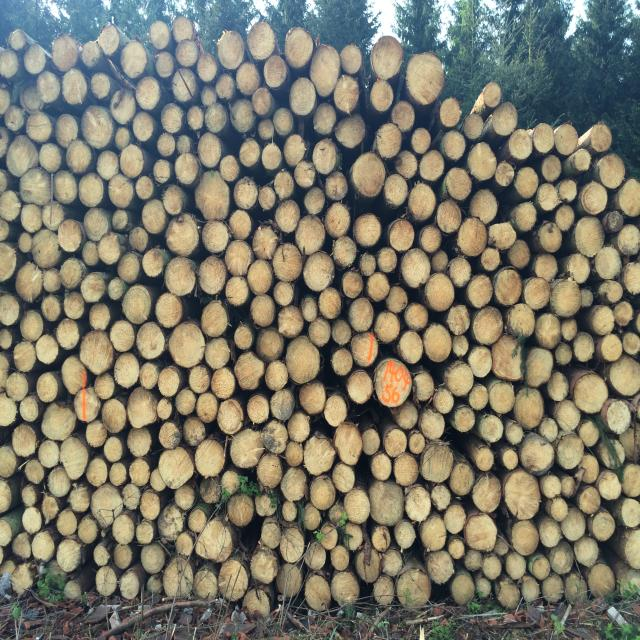wood-log: (407, 52, 446, 105), (505, 469, 543, 520), (374, 359, 412, 408), (195, 172, 232, 222), (286, 334, 322, 384), (350, 152, 388, 198), (169, 323, 206, 369), (369, 480, 406, 526), (157, 446, 196, 489), (197, 518, 234, 562), (310, 46, 342, 96), (80, 332, 117, 375), (230, 429, 267, 470), (490, 335, 522, 382), (573, 372, 609, 413), (397, 568, 432, 610), (420, 441, 455, 483), (520, 432, 555, 474), (372, 37, 405, 80), (92, 482, 124, 526), (166, 216, 201, 256), (42, 402, 77, 442), (61, 436, 92, 480), (82, 108, 115, 149), (304, 434, 336, 476), (551, 275, 583, 317), (608, 355, 640, 397), (303, 252, 336, 292), (220, 557, 250, 601), (163, 557, 195, 598), (456, 218, 488, 258), (575, 217, 607, 257), (466, 513, 498, 553), (165, 257, 197, 297), (402, 249, 434, 288), (127, 389, 159, 428), (333, 423, 362, 466), (9, 136, 40, 176), (473, 307, 505, 345), (272, 245, 304, 283), (195, 438, 226, 477), (473, 474, 504, 513), (123, 284, 154, 323), (514, 390, 544, 430), (525, 347, 555, 387), (424, 272, 455, 310), (234, 352, 265, 390), (424, 325, 454, 364), (249, 548, 280, 585), (21, 167, 51, 205), (136, 321, 166, 359), (285, 28, 315, 66), (32, 229, 61, 268), (198, 257, 227, 296), (16, 262, 44, 302), (331, 570, 362, 606), (507, 303, 538, 339), (556, 433, 586, 470), (296, 217, 326, 254), (354, 542, 381, 583), (248, 21, 276, 60), (588, 562, 617, 599), (468, 142, 497, 179), (158, 505, 187, 542), (334, 76, 362, 114), (494, 268, 522, 306), (257, 452, 285, 490), (61, 356, 88, 395), (445, 361, 475, 396), (225, 242, 255, 277), (349, 332, 378, 368), (409, 183, 437, 220), (202, 300, 230, 337), (278, 525, 306, 562), (353, 214, 383, 248), (300, 380, 329, 415), (425, 549, 454, 584), (257, 328, 286, 363), (157, 293, 186, 328), (511, 519, 539, 555), (304, 575, 331, 612), (217, 398, 244, 435), (217, 33, 244, 70), (420, 512, 446, 550), (344, 488, 370, 526), (407, 483, 433, 521), (605, 400, 634, 434), (597, 154, 625, 189), (376, 123, 404, 158), (280, 468, 308, 503), (592, 246, 620, 281), (290, 79, 316, 116), (534, 313, 560, 350), (337, 116, 367, 148), (523, 276, 552, 309), (445, 166, 473, 200), (346, 370, 374, 404), (115, 352, 142, 387), (122, 43, 149, 78), (75, 388, 102, 423), (228, 492, 255, 527), (193, 566, 220, 601), (243, 588, 273, 619), (201, 220, 230, 252), (396, 331, 424, 364), (57, 537, 84, 571), (467, 274, 494, 308), (472, 191, 499, 225), (52, 38, 79, 72), (449, 461, 475, 496), (13, 424, 39, 459), (263, 419, 289, 454), (110, 320, 138, 352), (554, 400, 582, 432), (491, 105, 519, 137), (326, 203, 353, 236), (85, 207, 112, 240), (488, 380, 515, 413), (66, 141, 92, 175), (394, 451, 420, 485), (274, 199, 300, 233), (102, 399, 128, 433), (107, 174, 133, 208), (249, 260, 275, 294), (270, 388, 296, 422), (312, 141, 338, 175), (618, 176, 640, 216), (277, 306, 305, 337), (375, 311, 402, 343), (561, 508, 587, 541), (582, 181, 608, 214), (554, 123, 580, 156), (58, 220, 84, 253), (449, 571, 475, 604), (348, 298, 374, 331), (109, 91, 135, 124), (80, 174, 106, 207), (438, 200, 464, 233), (495, 578, 520, 612), (142, 199, 167, 233), (231, 99, 256, 133), (418, 151, 445, 182), (205, 338, 232, 369), (419, 409, 445, 441), (48, 466, 74, 498), (309, 478, 335, 510), (589, 304, 615, 336), (63, 69, 86, 105), (574, 535, 599, 568), (135, 79, 160, 112), (251, 293, 276, 326), (199, 134, 223, 168), (122, 145, 146, 179), (81, 272, 108, 302), (333, 237, 359, 268), (384, 174, 410, 205), (173, 71, 196, 106), (389, 220, 414, 252), (98, 233, 123, 265), (313, 103, 338, 135), (467, 346, 492, 378), (516, 167, 540, 200), (54, 170, 78, 203), (56, 115, 80, 148), (550, 540, 574, 573), (318, 288, 342, 321), (478, 413, 504, 443), (513, 203, 539, 233), (564, 253, 590, 283), (507, 238, 532, 269), (159, 367, 184, 398), (60, 260, 85, 291), (175, 154, 200, 185), (142, 542, 166, 574), (182, 414, 206, 446), (510, 128, 533, 161), (373, 576, 396, 609), (4, 372, 30, 401), (20, 310, 45, 340), (588, 124, 613, 154), (210, 368, 235, 398), (34, 334, 59, 364), (383, 426, 408, 456), (226, 276, 251, 306), (56, 319, 81, 349), (31, 530, 55, 561), (325, 396, 349, 427), (448, 258, 472, 289), (443, 131, 467, 162), (447, 304, 471, 335), (396, 400, 420, 431), (590, 511, 614, 542), (265, 360, 289, 391), (112, 512, 135, 544), (237, 62, 260, 94), (489, 223, 516, 250), (532, 122, 554, 155), (596, 470, 621, 499), (28, 114, 52, 144), (332, 464, 356, 494), (0, 242, 18, 282), (547, 372, 571, 402), (132, 113, 156, 143), (13, 342, 37, 372), (578, 452, 602, 482), (289, 412, 312, 443), (540, 223, 563, 254), (198, 390, 220, 422), (87, 455, 109, 487), (37, 71, 59, 103), (543, 574, 565, 606), (96, 566, 118, 598), (395, 518, 417, 550), (266, 56, 288, 88), (413, 371, 435, 403), (404, 303, 430, 330), (579, 485, 603, 514), (128, 429, 152, 458), (20, 203, 44, 232), (284, 135, 305, 168), (247, 396, 270, 426), (444, 504, 467, 534), (119, 254, 142, 284), (366, 271, 389, 301), (598, 334, 621, 364), (308, 318, 331, 348), (235, 180, 258, 210), (618, 225, 640, 256), (372, 81, 394, 112), (325, 170, 347, 201), (188, 364, 210, 395), (451, 406, 476, 433), (111, 463, 138, 488), (39, 145, 63, 173), (394, 152, 418, 180), (119, 567, 140, 599), (97, 151, 120, 180), (441, 98, 464, 127), (230, 209, 253, 238), (164, 185, 187, 214), (340, 45, 362, 75), (574, 332, 596, 362), (0, 192, 22, 222), (140, 490, 162, 520), (273, 168, 295, 198), (624, 529, 640, 570), (372, 450, 393, 481), (307, 541, 328, 572), (533, 254, 557, 281), (472, 444, 496, 471), (536, 183, 559, 211), (0, 292, 20, 324), (68, 483, 90, 512), (90, 302, 112, 331), (44, 200, 66, 229), (37, 372, 58, 402), (393, 101, 414, 131), (622, 260, 640, 295), (305, 188, 328, 215), (620, 497, 640, 528), (58, 510, 80, 538), (538, 518, 560, 546), (342, 270, 364, 298), (87, 419, 109, 447), (302, 504, 324, 532), (37, 440, 59, 468), (77, 516, 99, 544), (143, 250, 165, 278), (163, 104, 185, 132), (98, 26, 120, 54), (464, 114, 486, 142), (622, 464, 640, 498), (175, 388, 196, 417), (206, 103, 227, 132), (0, 446, 19, 478), (382, 546, 402, 576), (240, 138, 260, 168), (254, 491, 277, 517), (420, 227, 442, 254), (197, 55, 219, 82), (579, 420, 601, 447), (507, 551, 528, 579), (64, 292, 85, 320), (26, 47, 47, 75), (333, 347, 354, 375), (20, 396, 41, 424), (151, 21, 172, 49), (262, 520, 283, 548), (11, 532, 31, 561), (0, 393, 17, 427), (599, 280, 622, 305), (480, 83, 503, 108), (274, 110, 296, 136), (434, 387, 456, 413), (387, 286, 409, 312), (521, 576, 540, 606), (430, 484, 451, 511), (176, 483, 197, 510), (160, 422, 181, 449), (40, 494, 60, 522), (131, 458, 151, 486), (548, 495, 570, 520), (176, 42, 198, 67), (220, 157, 242, 182), (130, 227, 151, 253), (332, 544, 352, 571), (41, 295, 61, 322), (254, 88, 274, 115), (296, 161, 316, 188), (543, 156, 563, 183), (467, 383, 487, 410), (556, 205, 576, 232), (96, 372, 116, 399), (175, 529, 195, 556), (235, 322, 255, 349), (328, 502, 348, 529), (274, 281, 296, 305), (412, 128, 433, 153), (25, 458, 46, 483), (481, 248, 501, 274), (334, 321, 354, 347), (542, 474, 562, 500), (123, 482, 142, 509), (104, 436, 122, 464), (22, 90, 43, 114), (362, 428, 380, 456), (530, 554, 550, 579), (318, 524, 338, 549), (483, 554, 502, 580), (23, 508, 42, 534), (188, 508, 207, 534), (0, 52, 19, 78), (263, 145, 282, 171), (558, 177, 578, 201), (4, 106, 24, 130), (506, 420, 526, 444), (614, 302, 634, 326), (379, 248, 398, 273), (93, 75, 112, 100), (372, 526, 391, 551), (82, 240, 100, 266), (603, 210, 624, 232), (174, 18, 194, 41), (409, 432, 428, 456), (114, 545, 132, 570), (496, 162, 514, 187), (158, 54, 176, 79), (136, 175, 154, 199), (110, 461, 128, 485), (623, 333, 640, 358), (0, 479, 12, 514), (160, 134, 178, 157), (108, 278, 126, 301), (554, 343, 572, 366), (454, 336, 471, 360), (574, 148, 592, 170), (464, 550, 482, 572), (155, 162, 173, 184), (501, 448, 518, 471), (188, 107, 204, 131), (261, 188, 278, 210), (0, 518, 13, 546), (138, 520, 153, 544), (0, 351, 10, 387), (492, 535, 510, 555), (282, 500, 298, 522), (95, 544, 111, 566), (159, 397, 174, 420), (562, 476, 577, 498), (260, 119, 276, 139), (449, 539, 464, 560), (24, 485, 38, 507), (112, 211, 128, 230), (20, 232, 35, 252), (0, 327, 13, 349), (0, 131, 10, 159), (0, 90, 11, 114), (0, 220, 10, 242), (0, 170, 9, 191)
